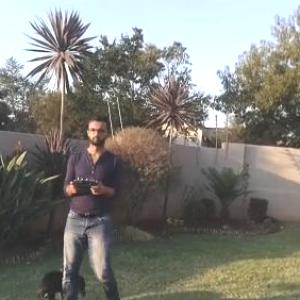follow: (57, 108, 125, 299)
null: (34, 266, 89, 299)
